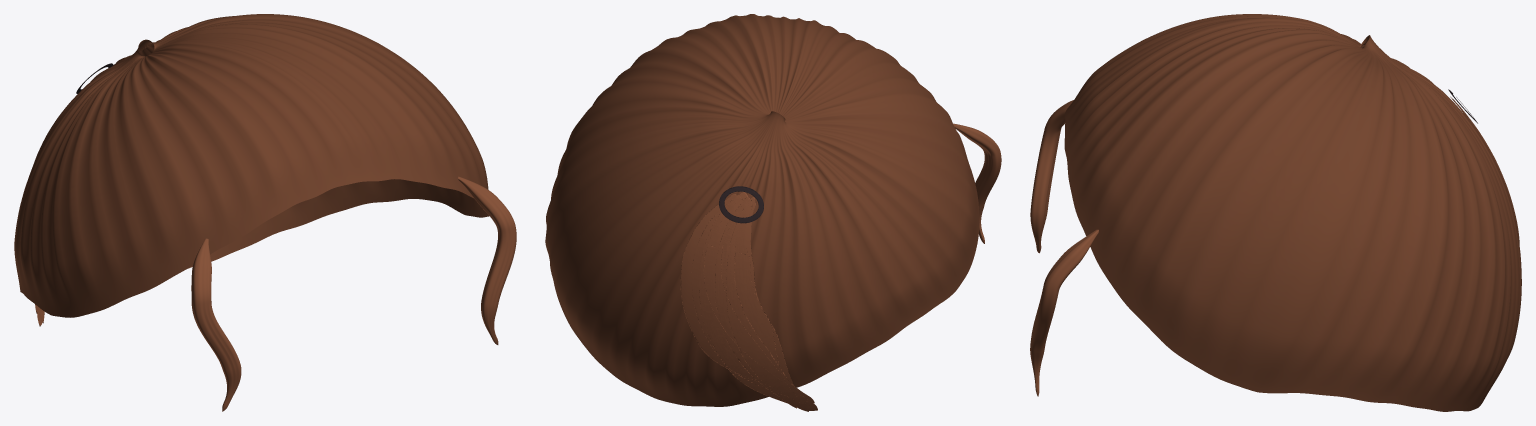
The model's file is Feminine-Feminine-ponytail-pashmina251-hair-e7682a1e.glb.
The picture shows the model from 3 angles, left to right: view 1: azimuth 30°, elevation 25°; view 2: azimuth 150°, elevation 25°; view 3: azimuth 270°, elevation 25°; orthographic projection. The views are drawn at different scales.
Visible parts, largest first — view 1: 226 hair / Hair / crisp pulled roots220, 226 hair / Hair / sculpted front locks222; view 2: 226 hair / Hair / crisp pulled roots220, 226 hair / Hair / chestnut212 0, 226 hair / Hair / chestnut212 1, 226 hair / Hair / chestnut212 2, 226 hair / Hair / sculpted front locks222, 226 hair / Hair / fitted tie214; view 3: 226 hair / Hair / crisp pulled roots220, 226 hair / Hair / sculpted front locks222.
Boxes of the visible parts, x1,y1,x2,y2 form: 226 hair / Hair / crisp pulled roots220: (14,14,489,317); 226 hair / Hair / sculpted front locks222: (191,176,516,411); 226 hair / Hair / crisp pulled roots220: (545,14,979,406); 226 hair / Hair / chestnut212 0: (680,193,809,411); 226 hair / Hair / chestnut212 1: (691,195,814,408); 226 hair / Hair / chestnut212 2: (699,192,817,410); 226 hair / Hair / sculpted front locks222: (953,123,1001,243); 226 hair / Hair / fitted tie214: (719,186,763,223); 226 hair / Hair / crisp pulled roots220: (1064,14,1521,411); 226 hair / Hair / sculpted front locks222: (1030,100,1098,396).
Size of the model in its own units: 0.9658 by 0.7247 by 0.9209.
